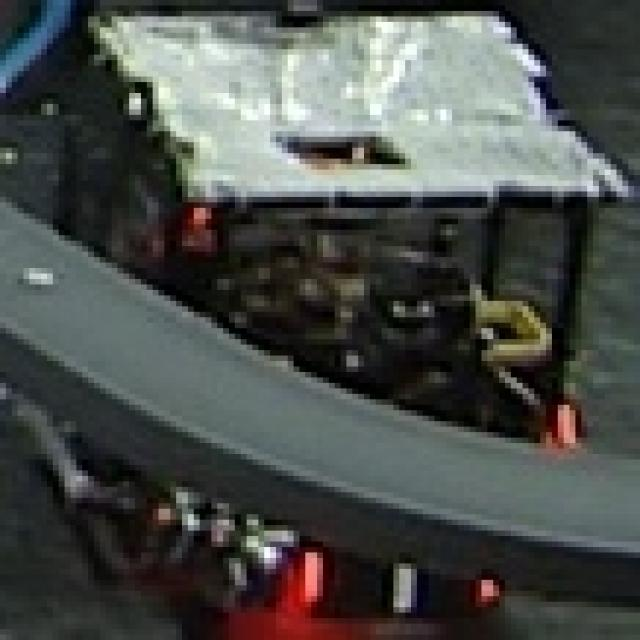R1: (282, 525, 505, 613)
